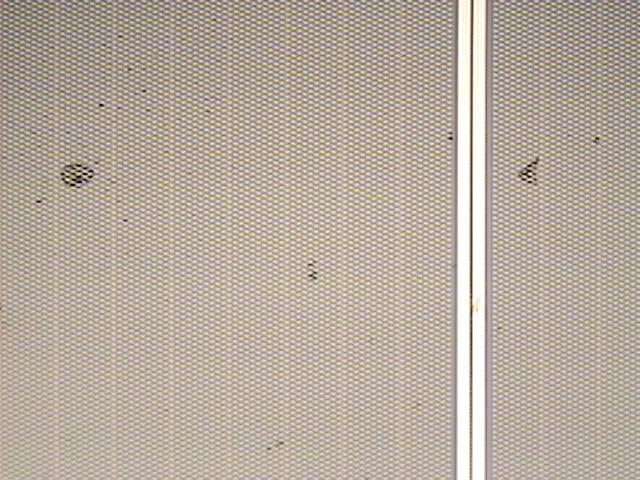PO CONTAMINATION: (35, 16, 604, 456)
